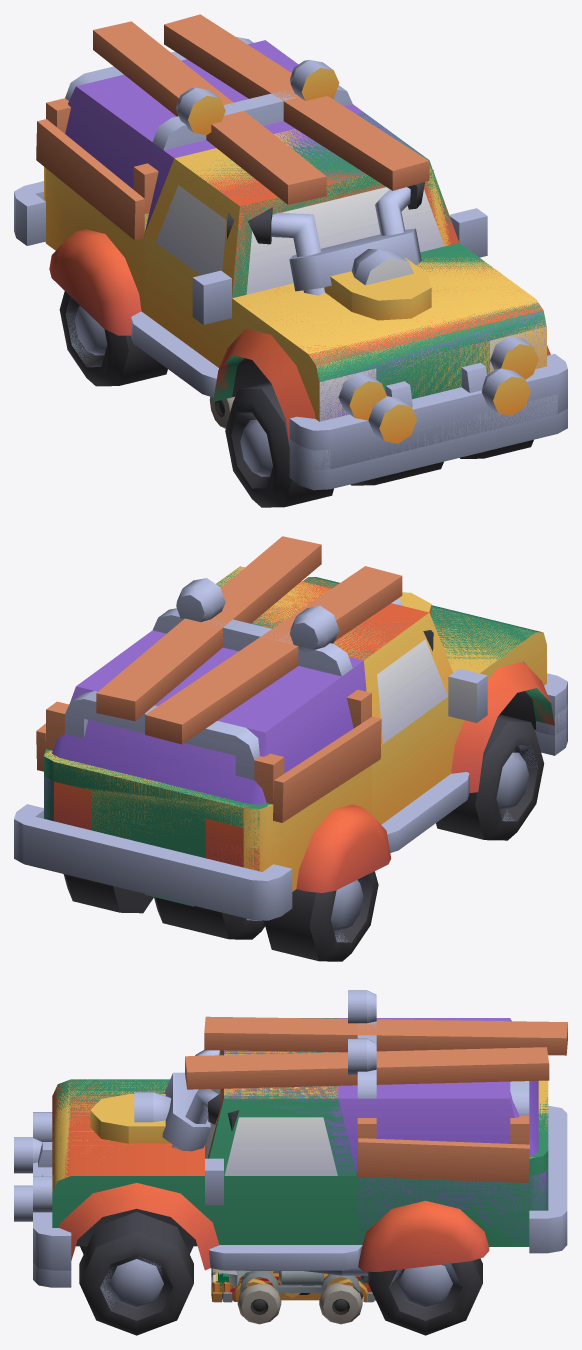
The model's file is vehicles.glb.
3 renders of one model, top to bottom at view 1: azimuth 30°, elevation 25°; view 2: azimuth 150°, elevation 25°; view 3: azimuth 270°, elevation 25°, orthographic. The views are drawn at different scales.
Visible parts, largest first — view 1: body (×4), fork, wheel-front-right, wheel-back-right, wheel-front; view 2: body (×4), wheel-front-right, wheel-back-right, wheel-back, wheel-back-left; view 3: body (×4), wheel-front-left, wheel-back-left, fork, spacetruck, spacetruck_large_wheel_front_left, spacetruck_large_wheel_rear_left, car_taxi, car_hatchback.
Part boxes in pixels (x1,y1,x2,y2): body (×4): (14,14,567,490); fork: (227,170,433,295); wheel-front-right: (225,381,333,507); wheel-back-right: (59,291,167,386); wheel-front: (350,461,443,485); body (×4): (14,536,567,920); wheel-front-right: (436,714,544,840); wheel-back-right: (264,871,378,961); wheel-back: (154,897,264,939); wheel-back-left: (63,874,153,913); body (×4): (14,990,567,1287); wheel-front-left: (79,1211,193,1335); wheel-back-left: (368,1258,482,1335); fork: (134,1050,239,1151); spacetruck: (214,1269,360,1292); spacetruck_large_wheel_front_left: (237,1284,281,1324); spacetruck_large_wheel_rear_left: (319,1284,362,1324); car_taxi: (211,1268,375,1302); car_hatchback: (222,1275,374,1302).
Size of the model in its own units: 1.5 by 1.68 by 2.9.
Materials: 4 (4 with a texture image).
